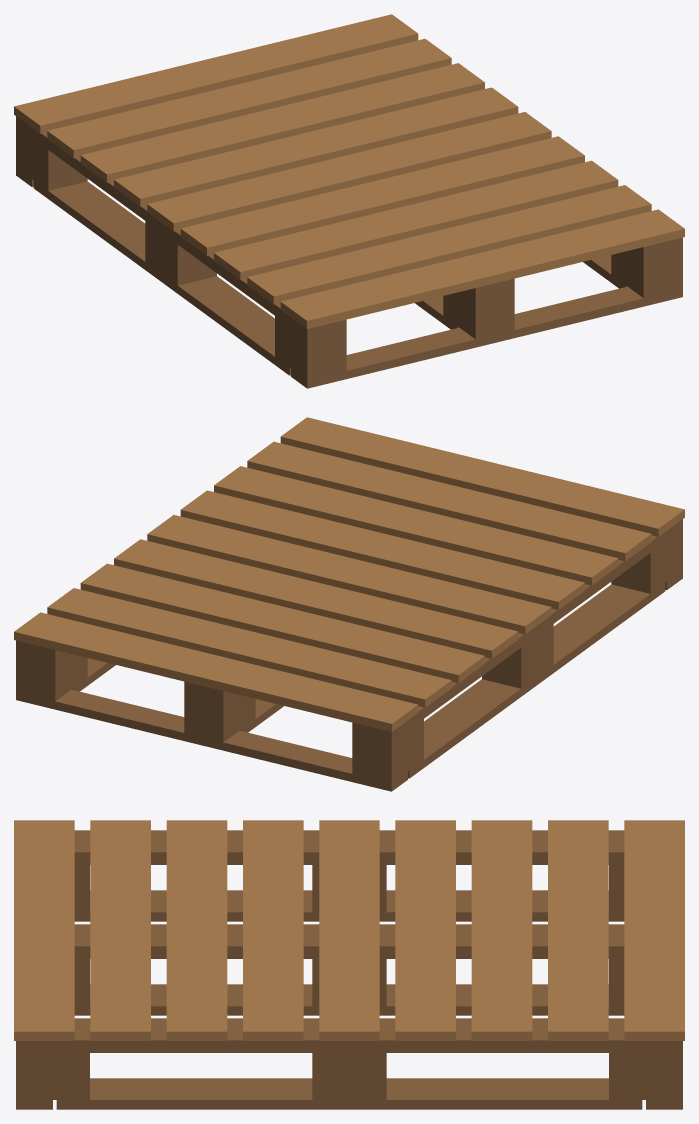
The model's file is Tray.fbx.
The picture shows the model from 3 angles, top to bottom: view 1: azimuth 30°, elevation 25°; view 2: azimuth 150°, elevation 25°; view 3: azimuth 270°, elevation 25°; orthographic projection. The views are drawn at different scales.
Visible parts, largest first — view 1: Cube; view 2: Cube; view 3: Cube.
Part boxes in pixels (left/top/right/bottom): Cube: left=14, top=14, right=684, bottom=388; Cube: left=14, top=417, right=684, bottom=791; Cube: left=14, top=820, right=684, bottom=1109.
Size of the model in its own units: 135 by 23.4 by 181.
